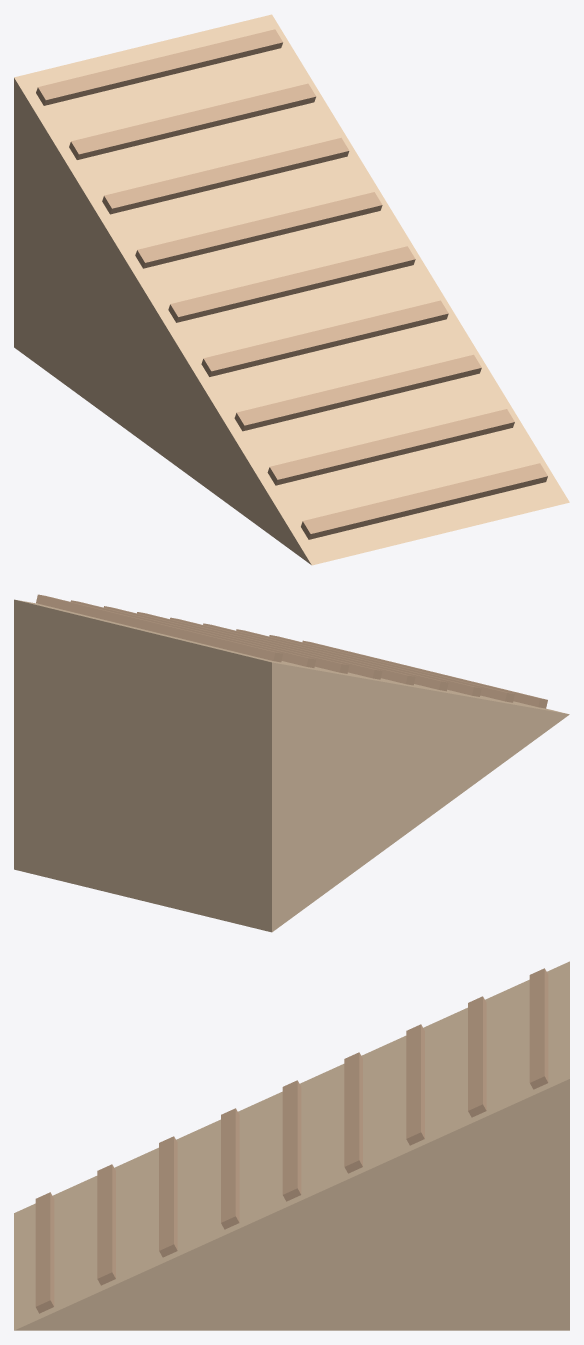
Rendered from ramp.glb.
3 renders of one model, top to bottom at view 1: azimuth 30°, elevation 25°; view 2: azimuth 150°, elevation 25°; view 3: azimuth 270°, elevation 25°, orthographic. The views are drawn at different scales.
Visible parts, largest first — view 1: ramp_body, ramp_grip; view 2: ramp_body, ramp_grip; view 3: ramp_body, ramp_grip.
Part boxes in pixels (x1=…): ramp_body: x1=14, y1=14, x2=569, y2=565; ramp_grip: x1=36, y1=29, x2=547, y2=539; ramp_body: x1=14, y1=599, x2=569, y2=932; ramp_grip: x1=36, y1=594, x2=547, y2=708; ramp_body: x1=14, y1=961, x2=569, y2=1330; ramp_grip: x1=35, y1=968, x2=548, y2=1313.
Bounding box in the file's own units: 0.5 × 0.5 × 1.
